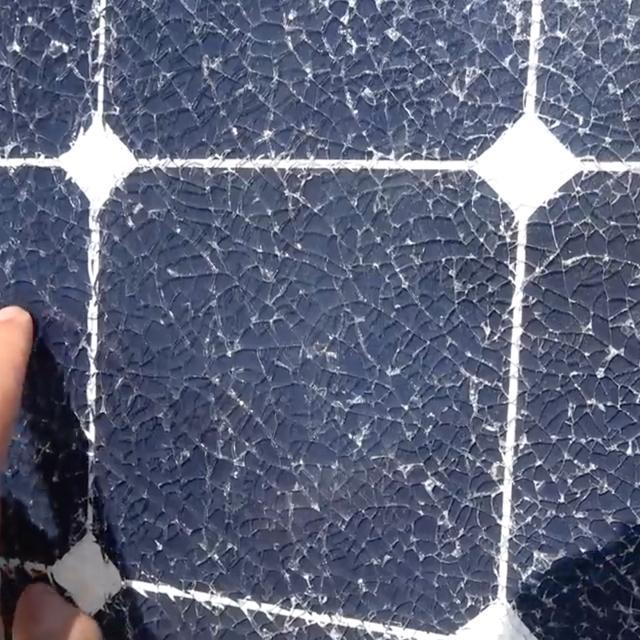Anomaly Solar Panel: (1, 2, 636, 637)
Structural Damage: (211, 254, 498, 636), (284, 15, 501, 158), (0, 0, 2, 1)
